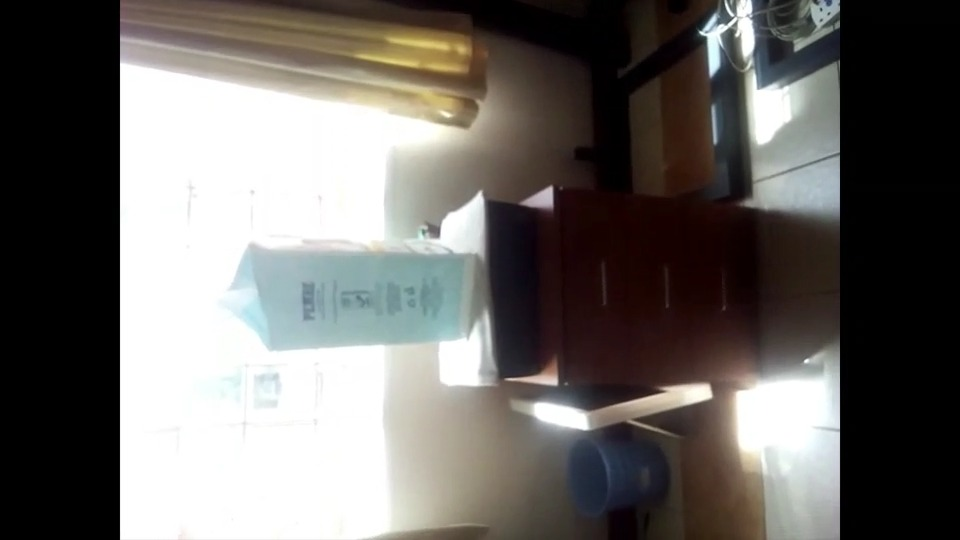wheat_flour_blue_label: (239, 236, 482, 347)
